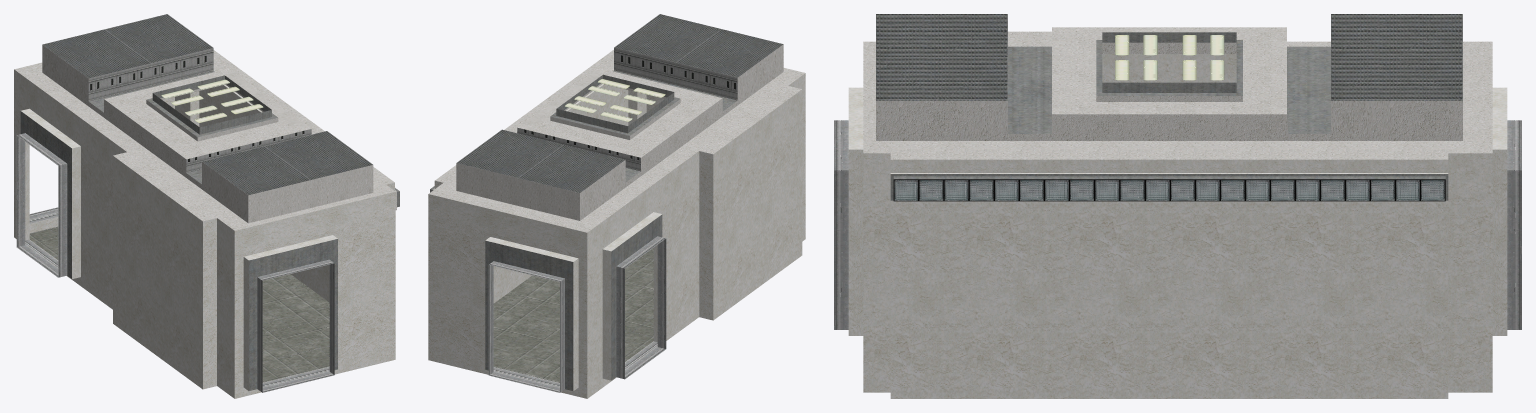
The model's file is ply_all_house_lg_s01_fp1_r3_room3_mesh_r3.fbx.
3 views of the same model, side by side, from view 1: azimuth 30°, elevation 25°; view 2: azimuth 150°, elevation 25°; view 3: azimuth 270°, elevation 25° (orthographic). The views are drawn at different scales.
Parts seen in each view (by area): view 1: mesh_node; view 2: mesh_node; view 3: mesh_node.
Boxes of the visible parts, x1,y1,x2,y2 form: mesh_node: (14, 14, 399, 398); mesh_node: (428, 14, 805, 398); mesh_node: (834, 14, 1521, 398).
Bounding box in the file's own units: 5.42 × 5.31 × 11.71.
